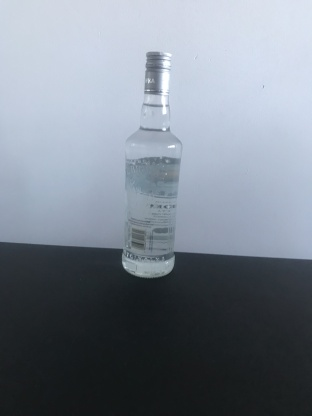nakretka: (143, 49, 172, 97)
